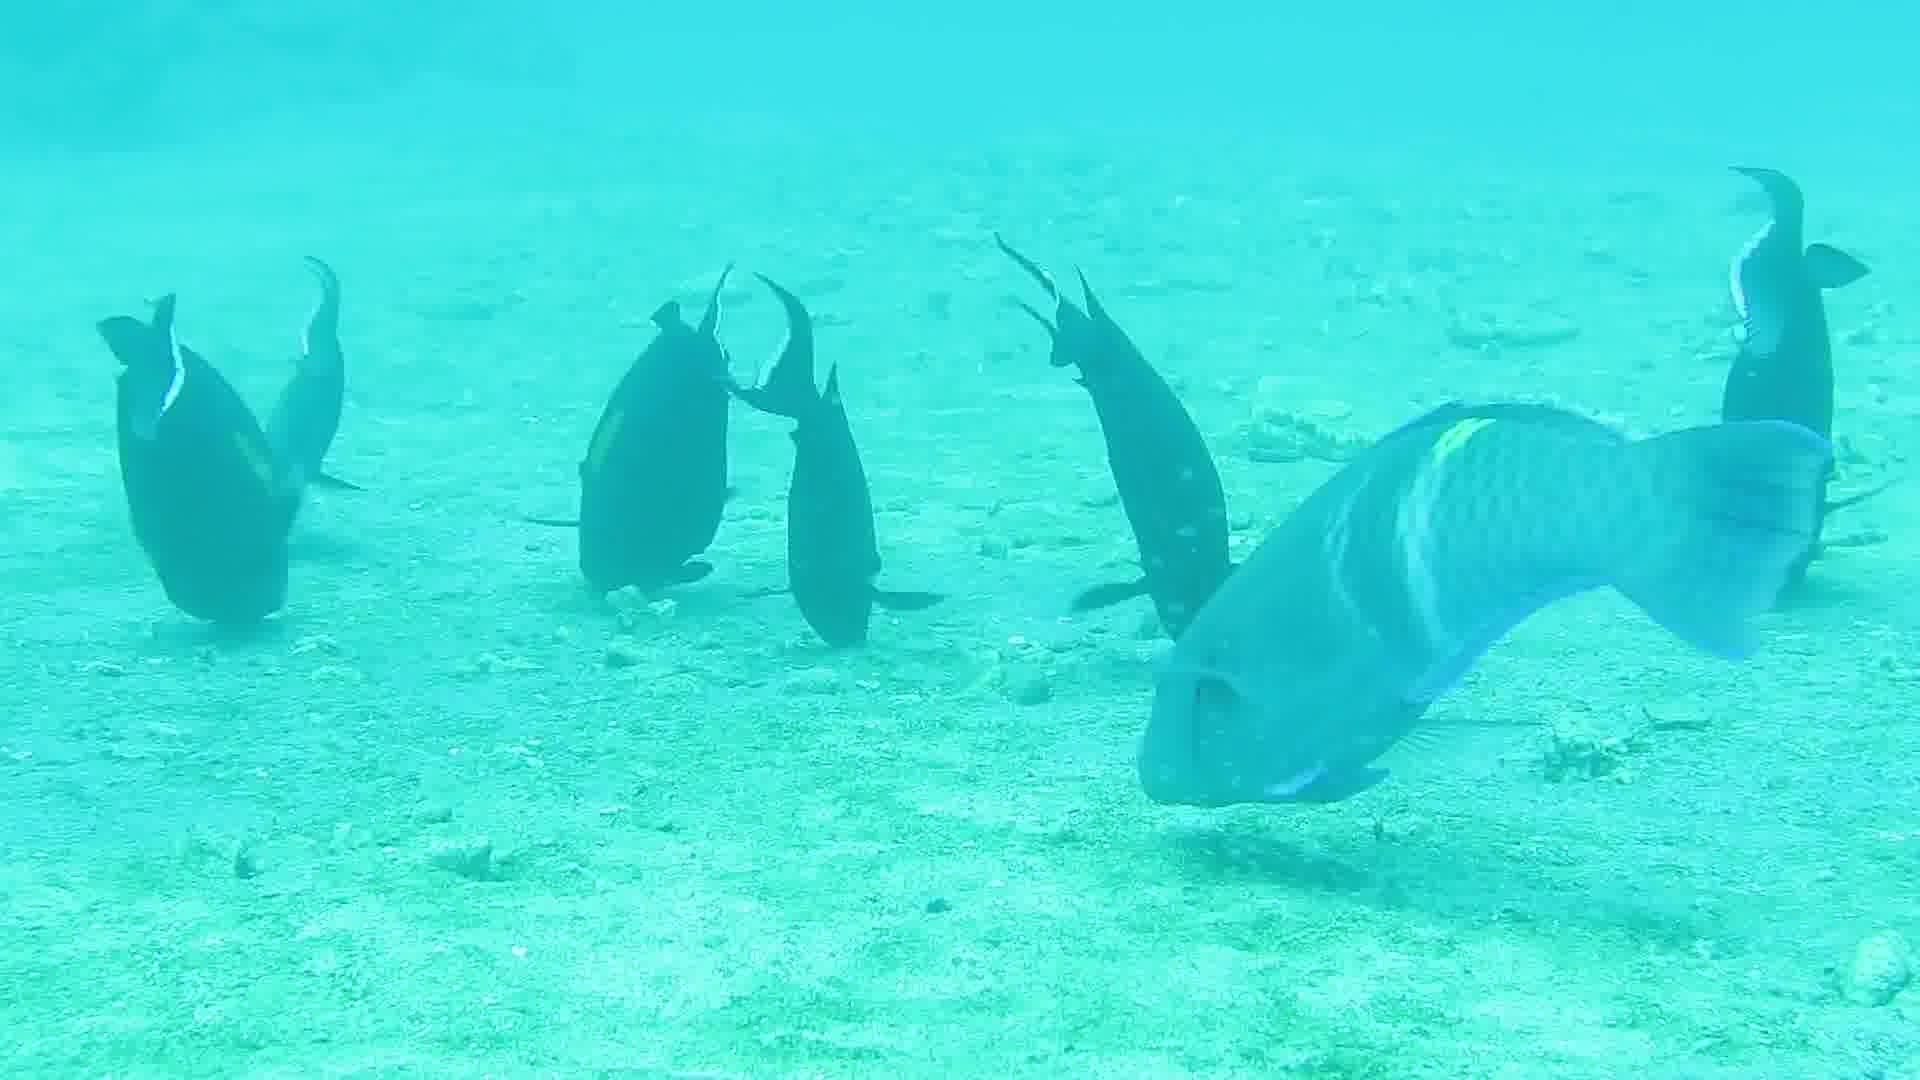Acanthurus olivaceus: (1065, 431, 1778, 800), (572, 228, 740, 658), (129, 239, 297, 669), (767, 251, 889, 671), (1091, 222, 1211, 642)
